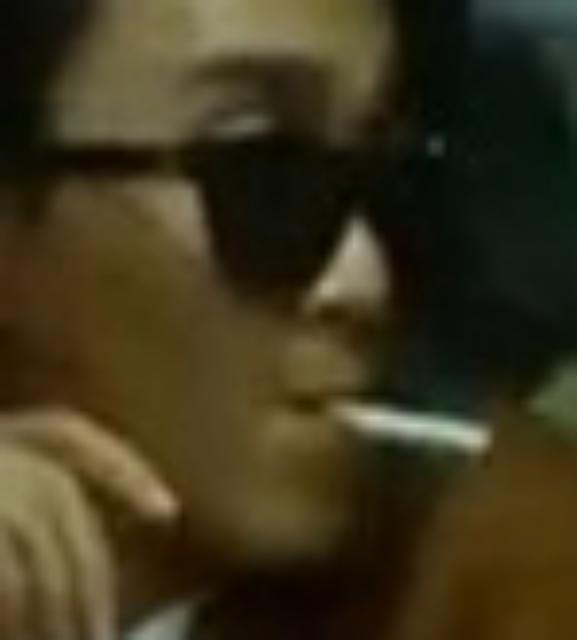Cigarette: (297, 388, 497, 458)
